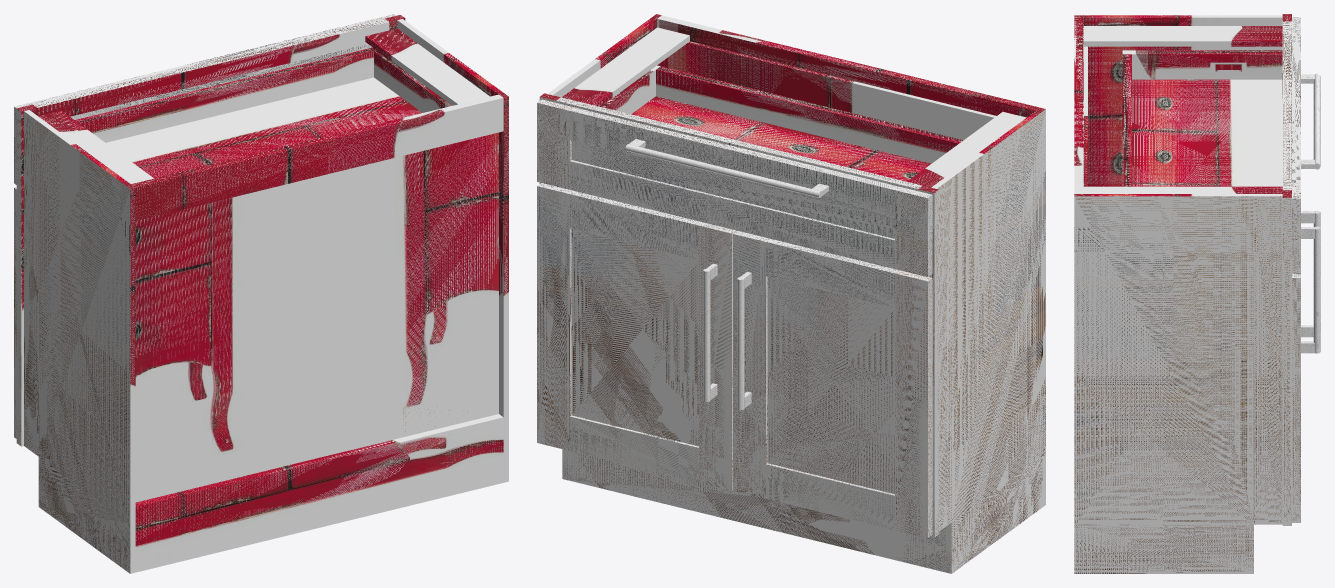
The picture shows the model from 3 angles, left to right: view 1: azimuth 30°, elevation 25°; view 2: azimuth 150°, elevation 25°; view 3: azimuth 270°, elevation 25°; orthographic projection. The views are drawn at different scales.
Visible parts, largest first — view 1: mesh5_mesh5-geometry, mesh8_mesh8-geometry, mesh13_mesh13-geometry, mesh4_mesh4-geometry, mesh20_mesh20-geometry, mesh18_mesh18-geometry, mesh6_mesh6-geometry, mesh7_mesh7-geometry, mesh9_mesh9-geometry, mesh11_mesh11-geometry, mesh15_mesh15-geometry, mesh3_mesh3-geometry (+4 smaller); view 2: mesh8_mesh8-geometry, mesh36_mesh36-geometry, mesh41_mesh41-geometry, mesh14_mesh14-geometry, mesh5_mesh5-geometry, mesh24_mesh24-geometry, mesh38_mesh38-geometry, mesh22_mesh22-geometry, mesh18_mesh18-geometry, mesh34_mesh34-geometry, mesh37_mesh37-geometry, mesh32_mesh32-geometry (+18 smaller); view 3: mesh11_mesh11-geometry, mesh20_mesh20-geometry, mesh10_mesh10-geometry, mesh12_mesh12-geometry, mesh8_mesh8-geometry, mesh17_mesh17-geometry, mesh16_mesh16-geometry, mesh3_mesh3-geometry, mesh34_mesh34-geometry, mesh28_mesh28-geometry, mesh4_mesh4-geometry, mesh6_mesh6-geometry (+9 smaller).
Boxes of the visible parts, <box> form: mesh5_mesh5-geometry: <box>135,132,498,502</box>; mesh8_mesh8-geometry: <box>38,120,135,523</box>; mesh13_mesh13-geometry: <box>135,414,503,572</box>; mesh4_mesh4-geometry: <box>131,94,503,220</box>; mesh20_mesh20-geometry: <box>106,77,421,178</box>; mesh18_mesh18-geometry: <box>75,48,373,142</box>; mesh6_mesh6-geometry: <box>33,18,389,116</box>; mesh7_mesh7-geometry: <box>24,110,43,456</box>; mesh9_mesh9-geometry: <box>38,457,135,573</box>; mesh11_mesh11-geometry: <box>412,29,508,432</box>; mesh15_mesh15-geometry: <box>365,28,489,105</box>; mesh3_mesh3-geometry: <box>16,15,405,446</box>; mesh8_mesh8-geometry: <box>946,107,1045,521</box>; mesh36_mesh36-geometry: <box>571,229,698,446</box>; mesh41_mesh41-geometry: <box>767,277,894,494</box>; mesh14_mesh14-geometry: <box>567,450,946,572</box>; mesh5_mesh5-geometry: <box>657,41,996,140</box>; mesh24_mesh24-geometry: <box>570,160,894,268</box>; mesh38_mesh38-geometry: <box>895,270,932,538</box>; mesh22_mesh22-geometry: <box>570,107,899,218</box>; mesh18_mesh18-geometry: <box>656,66,963,163</box>; mesh34_mesh34-geometry: <box>537,183,573,450</box>; mesh37_mesh37-geometry: <box>733,230,769,498</box>; mesh32_mesh32-geometry: <box>699,222,736,490</box>; mesh11_mesh11-geometry: <box>1074,194,1253,524</box>; mesh20_mesh20-geometry: <box>1132,79,1282,186</box>; mesh10_mesh10-geometry: <box>1254,194,1282,524</box>; mesh12_mesh12-geometry: <box>1074,524,1253,573</box>; mesh8_mesh8-geometry: <box>1074,15,1253,186</box>; mesh17_mesh17-geometry: <box>1122,50,1282,79</box>; mesh16_mesh16-geometry: <box>1083,26,1282,46</box>; mesh3_mesh3-geometry: <box>1282,14,1291,525</box>; mesh34_mesh34-geometry: <box>1292,274,1300,522</box>; mesh28_mesh28-geometry: <box>1313,73,1320,353</box>; mesh4_mesh4-geometry: <box>1074,17,1083,193</box>; mesh6_mesh6-geometry: <box>1282,21,1291,189</box>.
Bounding box in the file's own units: 0.6683 × 0.6405 × 0.3783.
